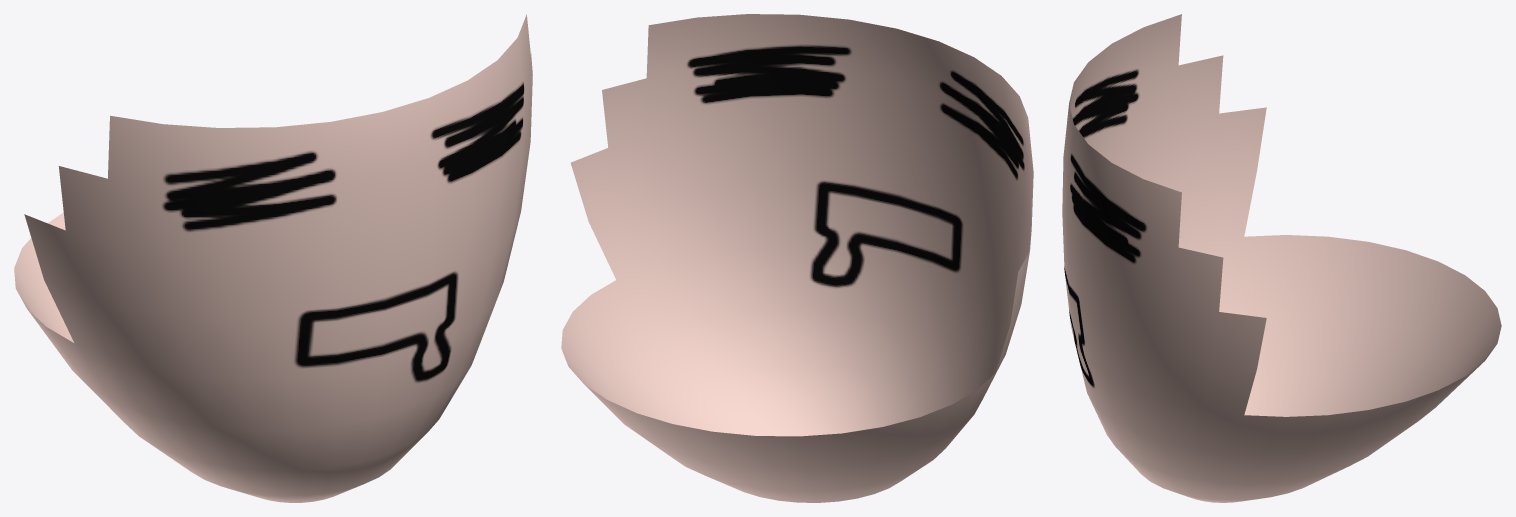
Rendered from NanTou.FBX.
3 renders of one model, left to right at view 1: azimuth 30°, elevation 25°; view 2: azimuth 150°, elevation 25°; view 3: azimuth 270°, elevation 25°, orthographic. The views are drawn at different scales.
Parts seen in each view (by area): view 1: Head; view 2: Head; view 3: Head.
Part boxes in pixels (x1,y1,x2,y2): Head: [14, 14, 532, 502]; Head: [561, 14, 1033, 502]; Head: [1062, 14, 1501, 502].
Size of the model in its own units: 22.72 by 19.45 by 20.04.
1 material, 1 textured.
